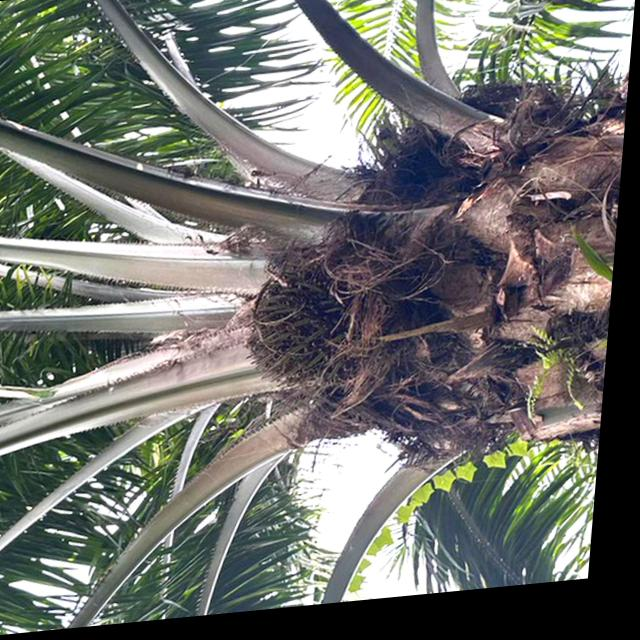unripe: (241, 249, 385, 411)
